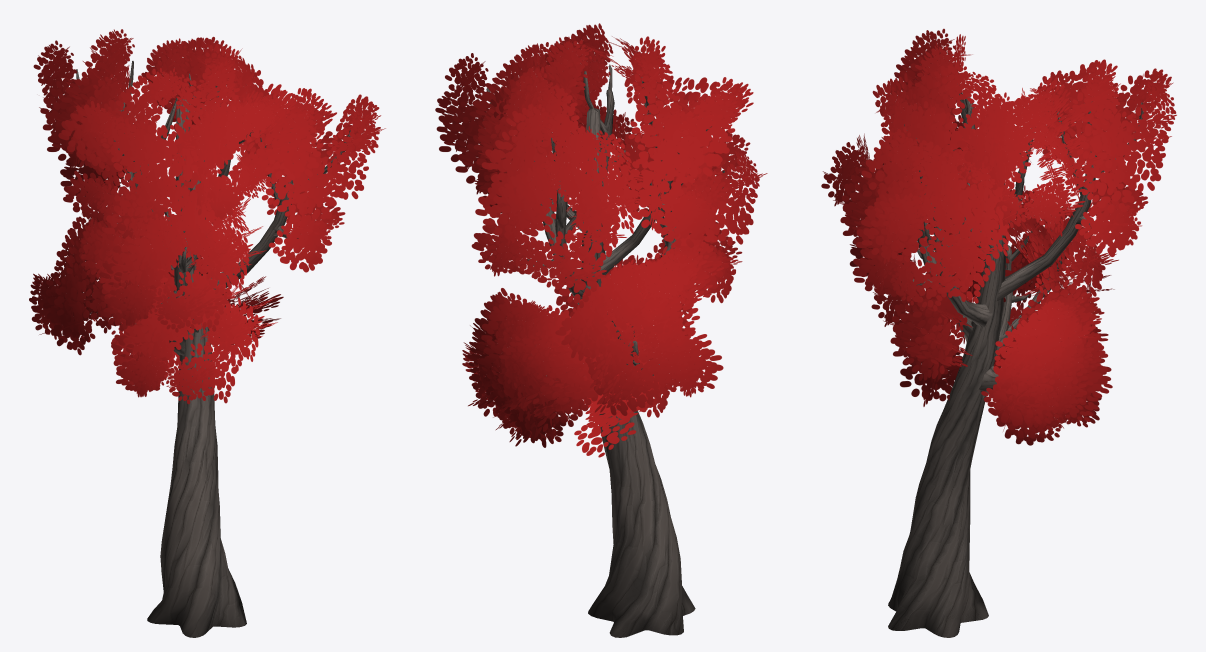
Rendered from twisted-tree-1.glb.
3 renders of one model, left to right at view 1: azimuth 30°, elevation 25°; view 2: azimuth 150°, elevation 25°; view 3: azimuth 270°, elevation 25°, orthographic. The views are drawn at different scales.
Parts seen in each view (by area): view 1: TwistedTree_5; view 2: TwistedTree_5; view 3: TwistedTree_5.
Boxes of the visible parts, <box> form: TwistedTree_5: <box>29,29,385,637</box>; TwistedTree_5: <box>435,23,767,637</box>; TwistedTree_5: <box>821,28,1176,637</box>.
Bounding box in the file's own units: 9.49 × 15.66 × 9.39.
Materials: 2 (2 with a texture image).
